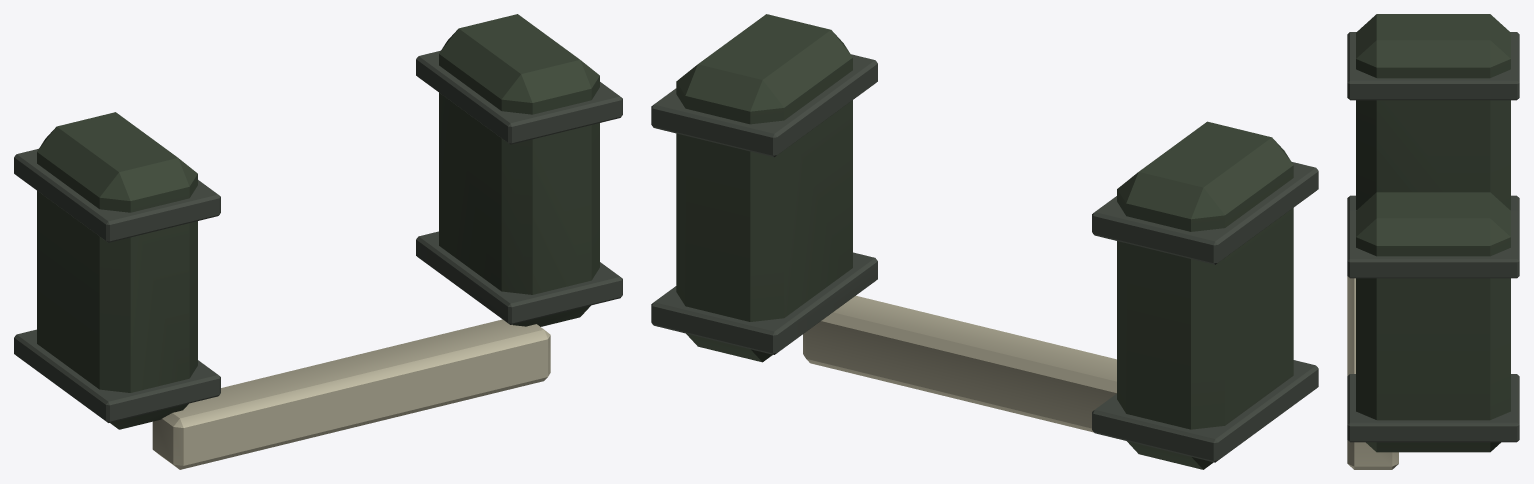
Rendered from power_buffered.glb.
3 renders of one model, left to right at view 1: azimuth 30°, elevation 25°; view 2: azimuth 150°, elevation 25°; view 3: azimuth 270°, elevation 25°, orthographic. The views are drawn at different scales.
Parts seen in each view (by area): view 1: Buffered_capacitor_canister.001, Buffered_capacitor_canister, Protected_busbar, Capacitor_clamp.002, Capacitor_clamp, Capacitor_clamp.003, Capacitor_clamp.001; view 2: Buffered_capacitor_canister.001, Buffered_capacitor_canister, Protected_busbar, Capacitor_clamp, Capacitor_clamp.002, Capacitor_clamp.001, Capacitor_clamp.003; view 3: Buffered_capacitor_canister, Buffered_capacitor_canister.001, Capacitor_clamp.002, Capacitor_clamp.003, Capacitor_clamp, Protected_busbar, Capacitor_clamp.001.
Boxes of the visible parts, box(x1,y1,x2,y2) form: Buffered_capacitor_canister.001: box(37, 112, 197, 429); Buffered_capacitor_canister: box(439, 14, 599, 326); Protected_busbar: box(152, 319, 550, 469); Capacitor_clamp.002: box(14, 148, 220, 242); Capacitor_clamp: box(416, 50, 622, 144); Capacitor_clamp.003: box(416, 231, 622, 324); Capacitor_clamp.001: box(14, 329, 220, 422); Buffered_capacitor_canister.001: box(1117, 121, 1293, 469); Buffered_capacitor_canister: box(676, 14, 852, 362); Protected_busbar: box(803, 295, 1116, 432); Capacitor_clamp: box(651, 54, 877, 157); Capacitor_clamp.002: box(1092, 162, 1318, 264); Capacitor_clamp.001: box(1092, 360, 1318, 462); Capacitor_clamp.003: box(651, 252, 877, 354); Buffered_capacitor_canister: box(1356, 192, 1510, 452); Buffered_capacitor_canister.001: box(1356, 14, 1510, 210); Capacitor_clamp.002: box(1347, 32, 1519, 100); Capacitor_clamp.003: box(1347, 374, 1519, 442); Capacitor_clamp: box(1347, 210, 1519, 278); Protected_busbar: box(1347, 276, 1398, 469); Capacitor_clamp.001: box(1347, 195, 1519, 212).
Bounding box in the file's own units: 0.63 × 0.35 × 0.2.
